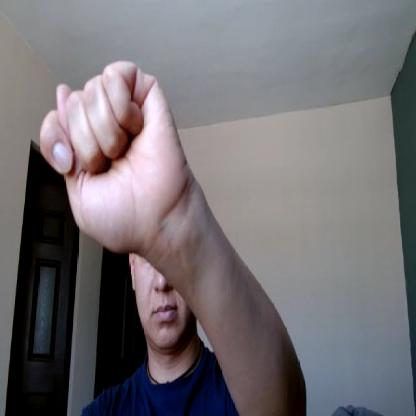T: (38, 56, 178, 258)
